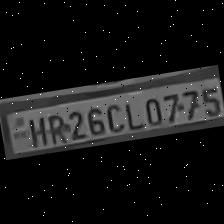0: (139, 92, 165, 125)
2: (62, 106, 86, 140)
5: (196, 83, 224, 118)
6: (82, 102, 106, 136)
7: (176, 86, 201, 120), (159, 89, 183, 124)
C: (101, 99, 124, 133)
H: (24, 113, 48, 148)
L: (119, 96, 144, 130)
R: (44, 110, 68, 144)
